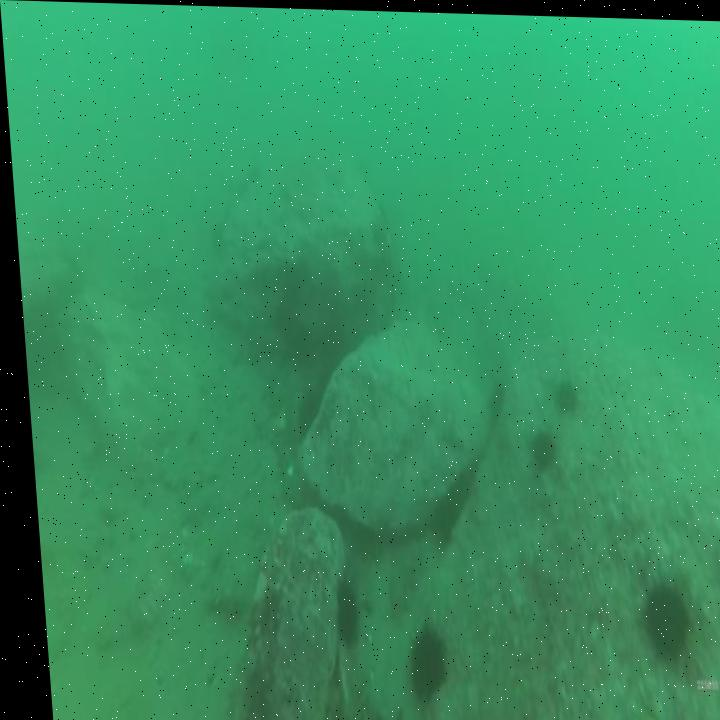echinus: (631, 576, 682, 662), (398, 629, 434, 699), (325, 581, 354, 638), (522, 429, 546, 464), (549, 377, 570, 411)
